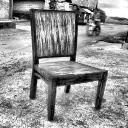chair_success: (14, 4, 114, 123)
